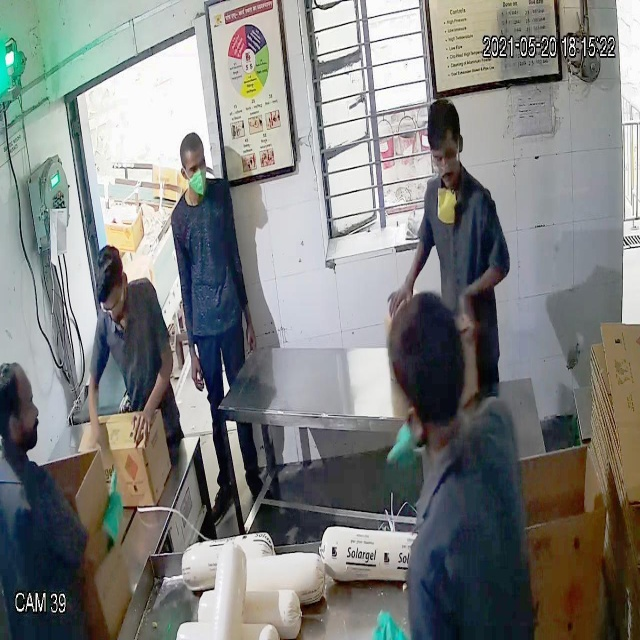Gafas: (427, 140, 463, 174), (94, 288, 130, 319)
